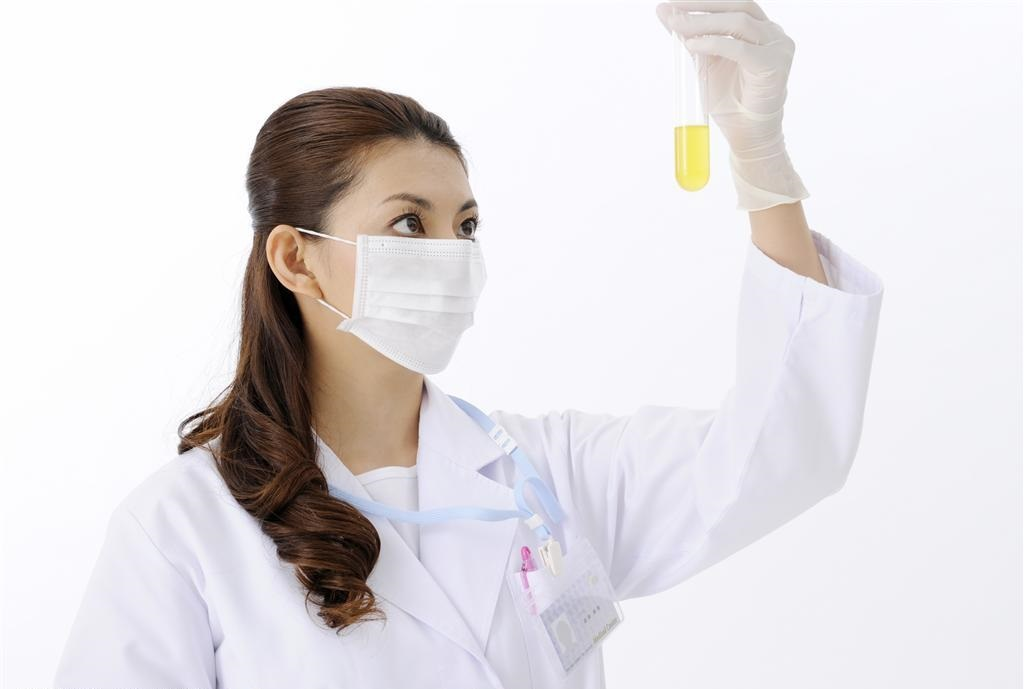face_mask: (333, 140, 484, 376)
